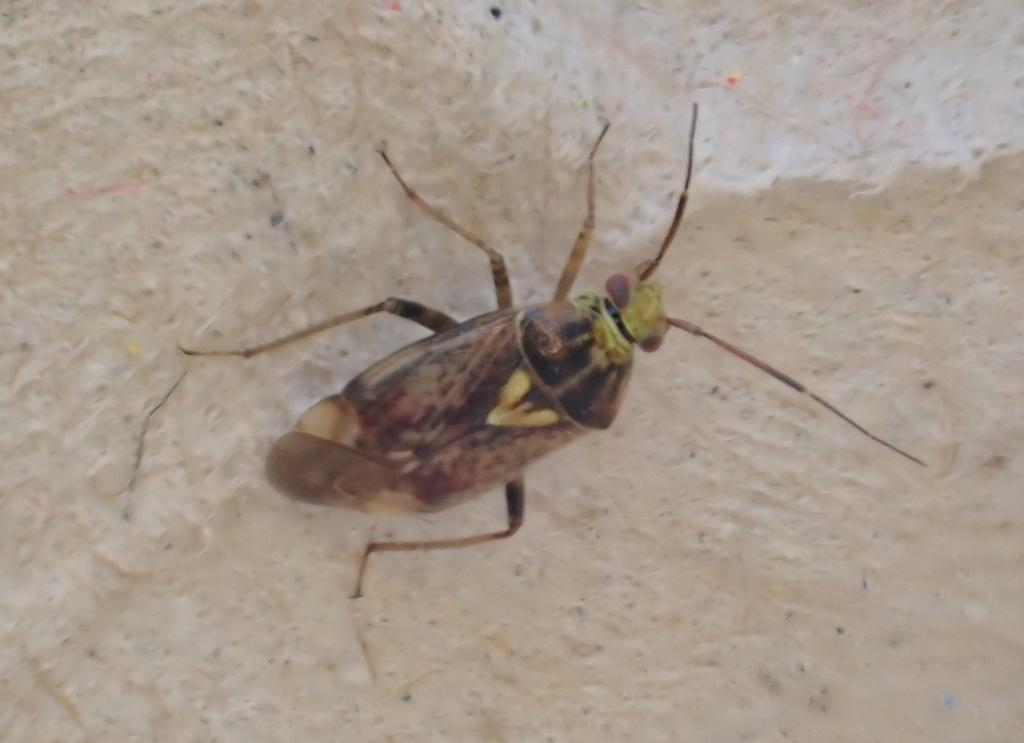plant_bugs: (153, 67, 987, 714)
